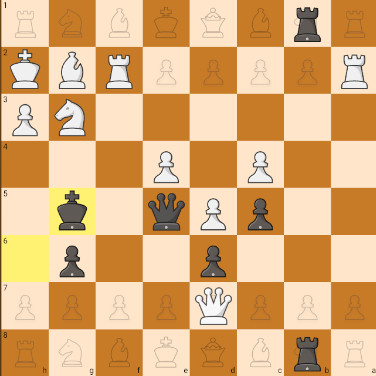bk: (51, 190, 94, 234)
bp: (193, 239, 233, 280), (240, 193, 281, 233), (52, 243, 93, 279)
bq: (145, 192, 187, 231)
br: (289, 2, 329, 44), (291, 334, 329, 375)
wb: (51, 47, 94, 92)
wk: (3, 49, 46, 91)
wn: (52, 96, 92, 138)
wp: (143, 141, 190, 187), (3, 95, 47, 140), (191, 189, 235, 233), (239, 144, 281, 186)
wq: (193, 285, 234, 327)
wr: (96, 49, 139, 91), (335, 49, 373, 92)
